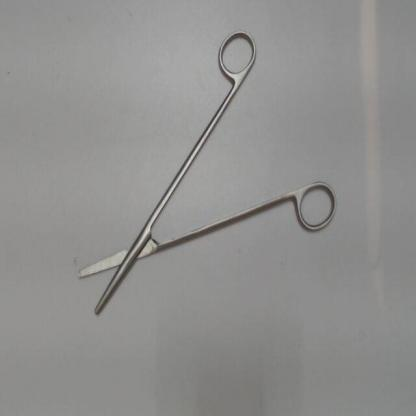9 Metzenbaum Scissors: (70, 20, 346, 322)
